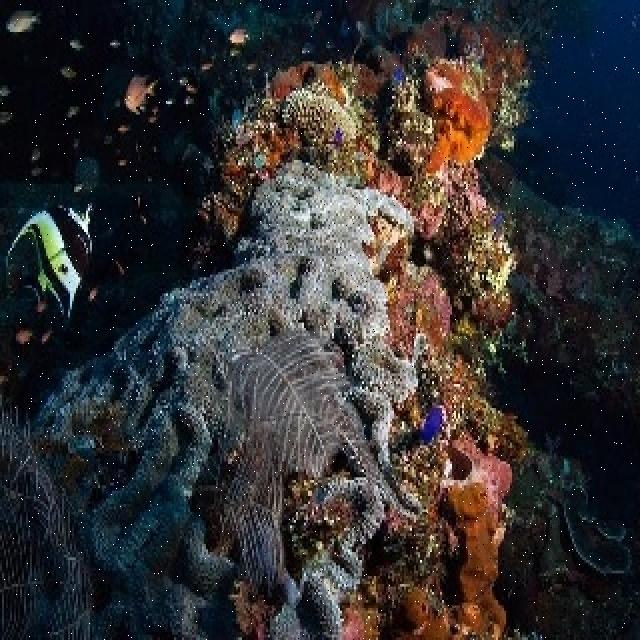aquatic plants: (0, 401, 93, 637), (229, 330, 349, 473)
fish: (4, 200, 96, 323), (125, 77, 160, 117), (5, 10, 40, 34), (227, 28, 250, 44)
reefs: (227, 426, 286, 593)
